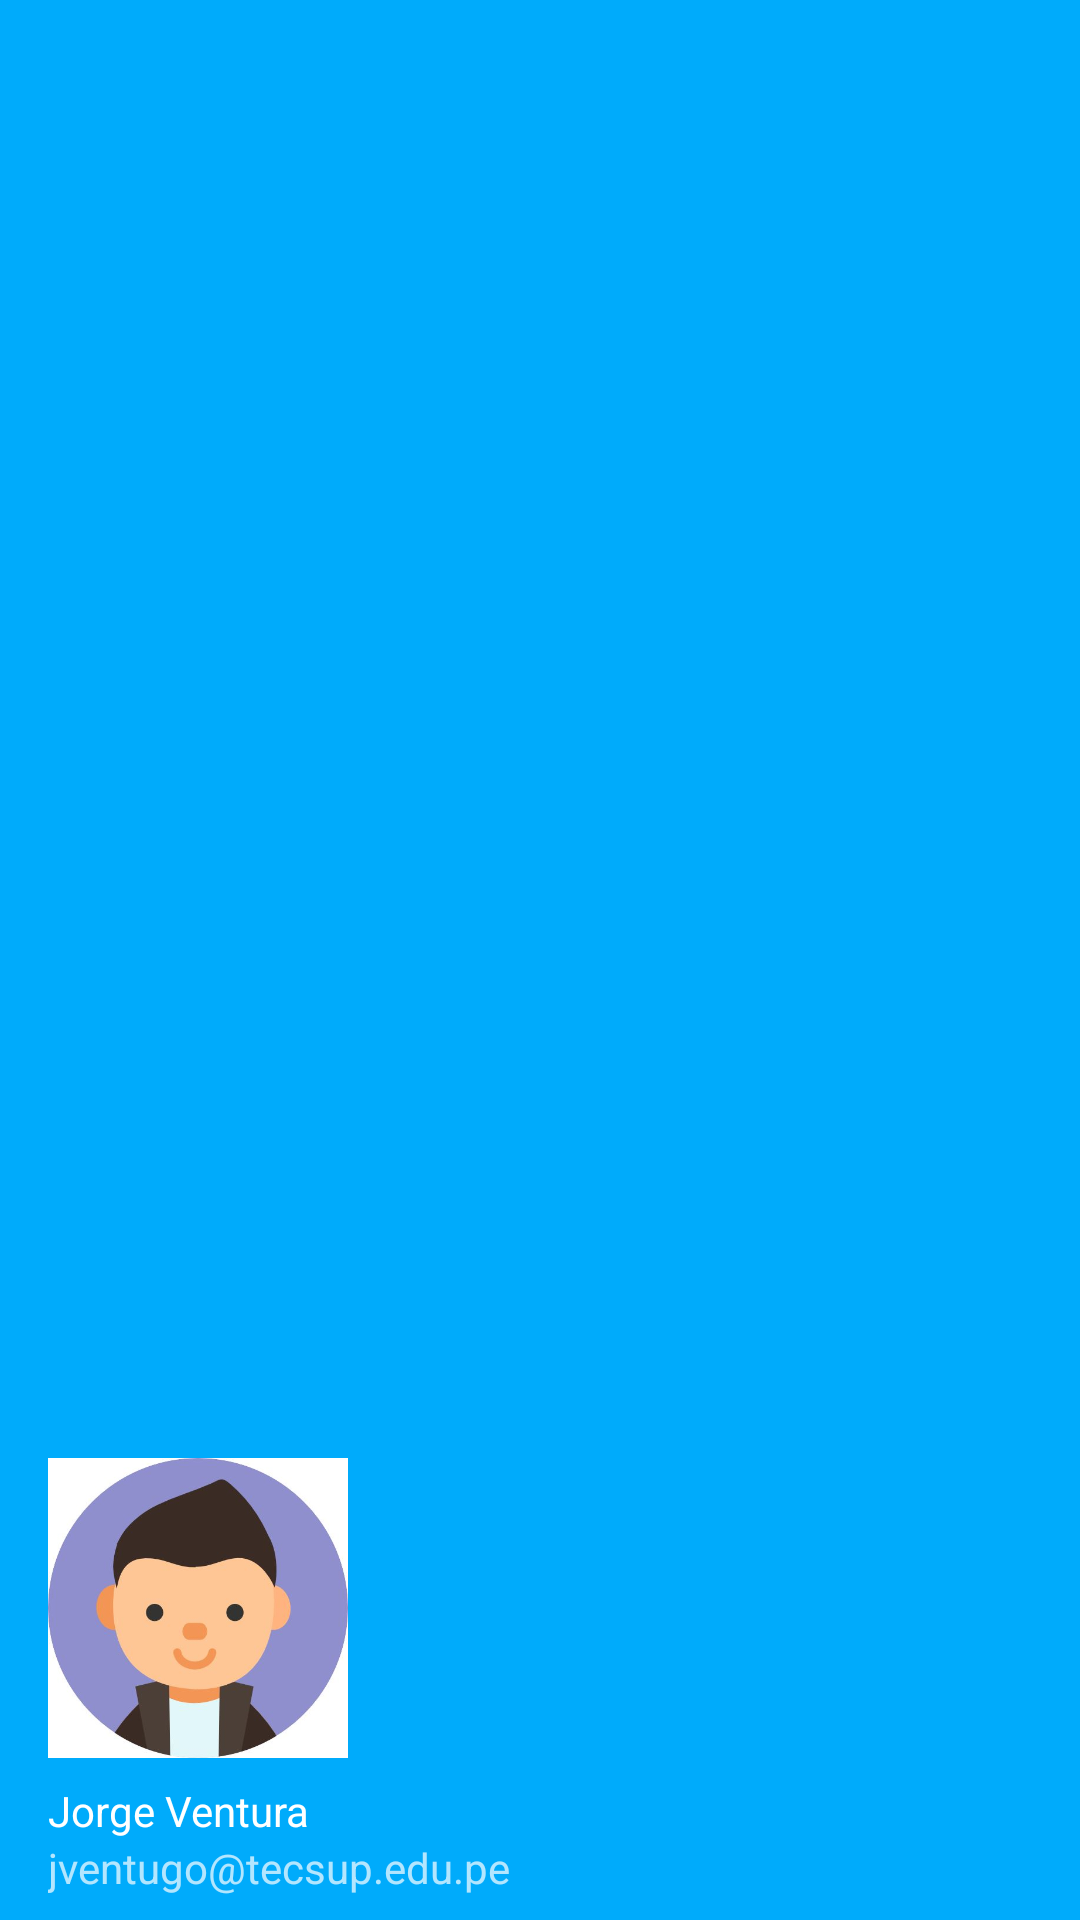

Screen size 1080w x 1920h. Icon name, then its box in pixels as {"x1": x1, "y1": y1, "x2": x2, "y2": y2}:
usuario: {"x1": 48, "y1": 1458, "x2": 348, "y2": 1758}
